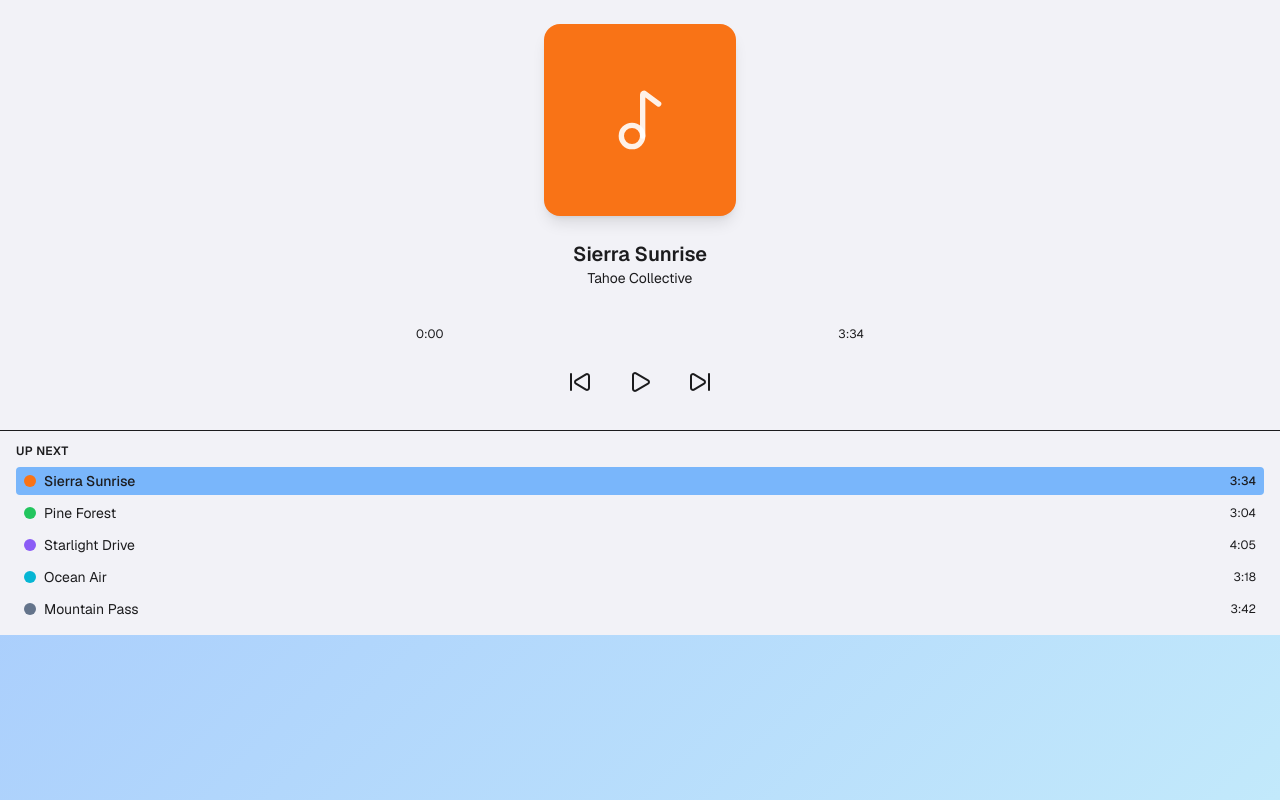
it: Music › skips to the next track
This screenshot has width=1280, height=800.
Click the button with test id "music-next".
click(700, 382)  # box [680,362,720,402]
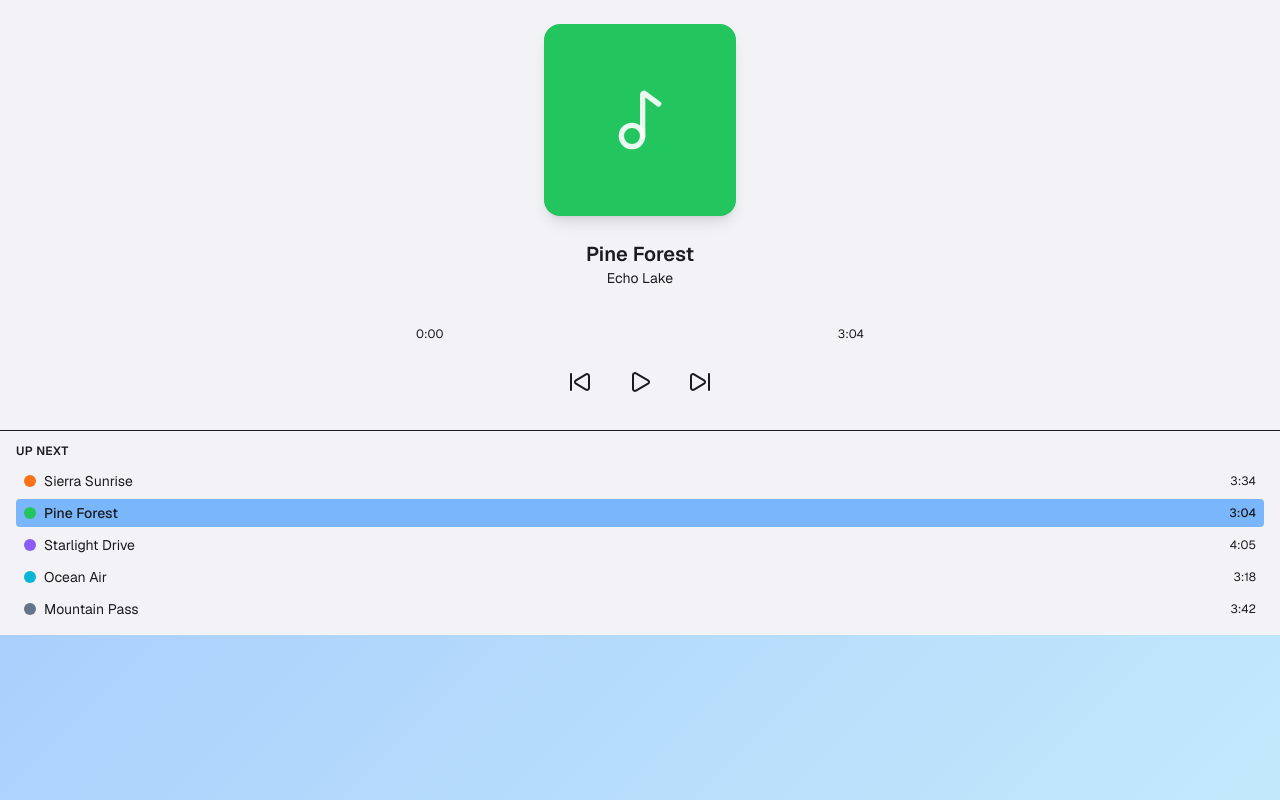
Expected: the text with test id "music-title" reads "Pine Forest", [586,241,694,267]
